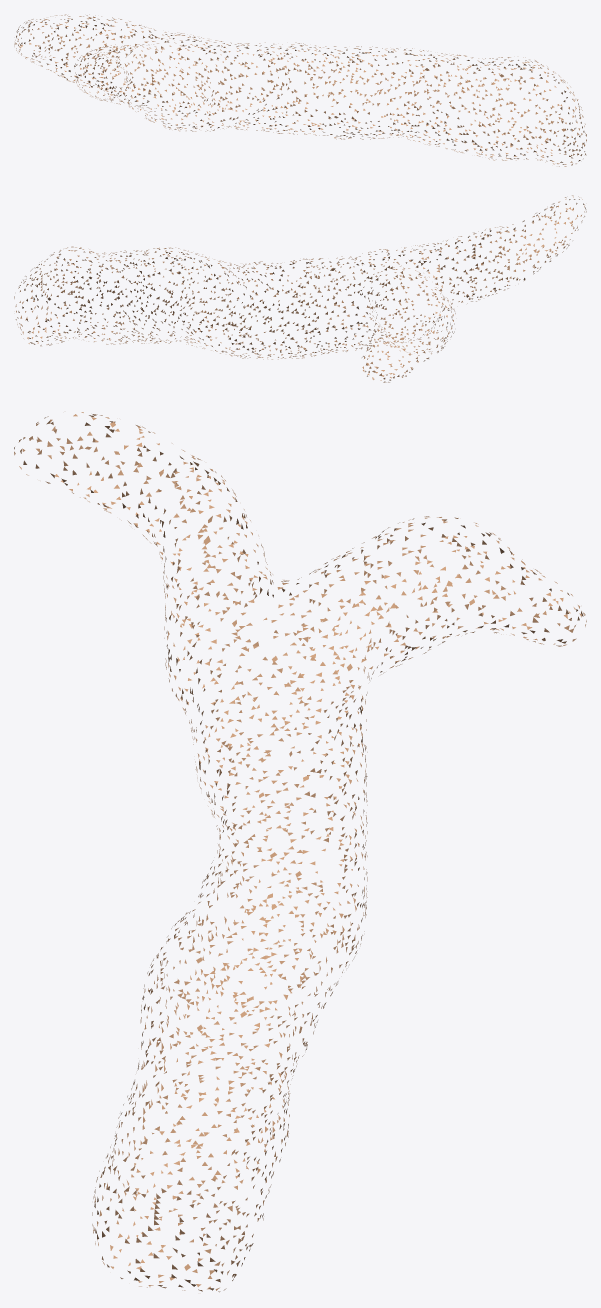
The model's file is morph_005.glb.
3 renders of one model, top to bottom at view 1: azimuth 30°, elevation 25°; view 2: azimuth 150°, elevation 25°; view 3: azimuth 270°, elevation 25°, orthographic. The views are drawn at different scales.
Size of the model in its own units: 134 by 58.75 by 69.15.
